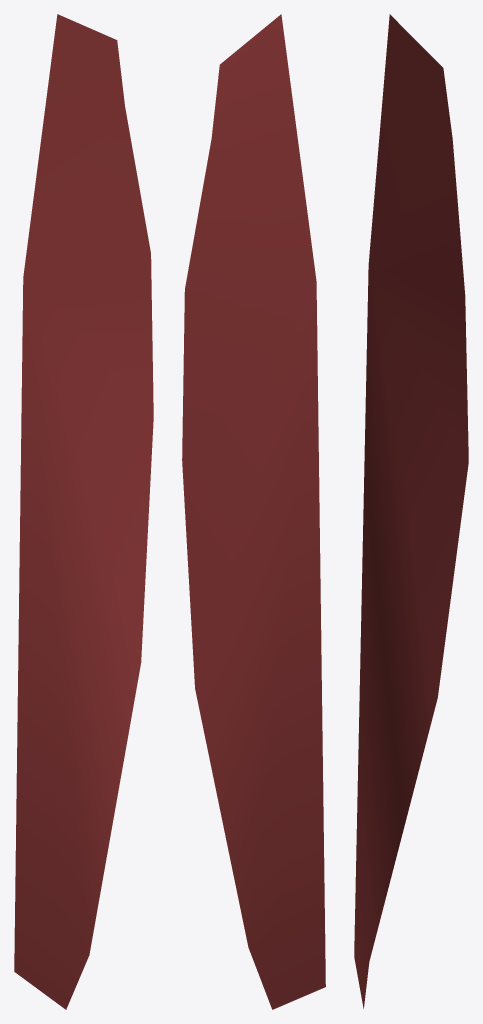
The model's file is fibularis-tertius-muscle-ol.glb.
3 renders of one model, left to right at view 1: azimuth 30°, elevation 25°; view 2: azimuth 210°, elevation 25°; view 3: azimuth 330°, elevation 25°, orthographic. The views are drawn at different scales.
Visible parts, largest first — view 1: Fibularis tertius muscle.ol; view 2: Fibularis tertius muscle.ol; view 3: Fibularis tertius muscle.ol.
Part boxes in pixels (bbox=[...]): Fibularis tertius muscle.ol: bbox=[14, 14, 153, 1009]; Fibularis tertius muscle.ol: bbox=[182, 14, 325, 1009]; Fibularis tertius muscle.ol: bbox=[354, 14, 468, 1008].
Bounding box in the file's own units: 0.00457 × 0.0338 × 0.00204.
